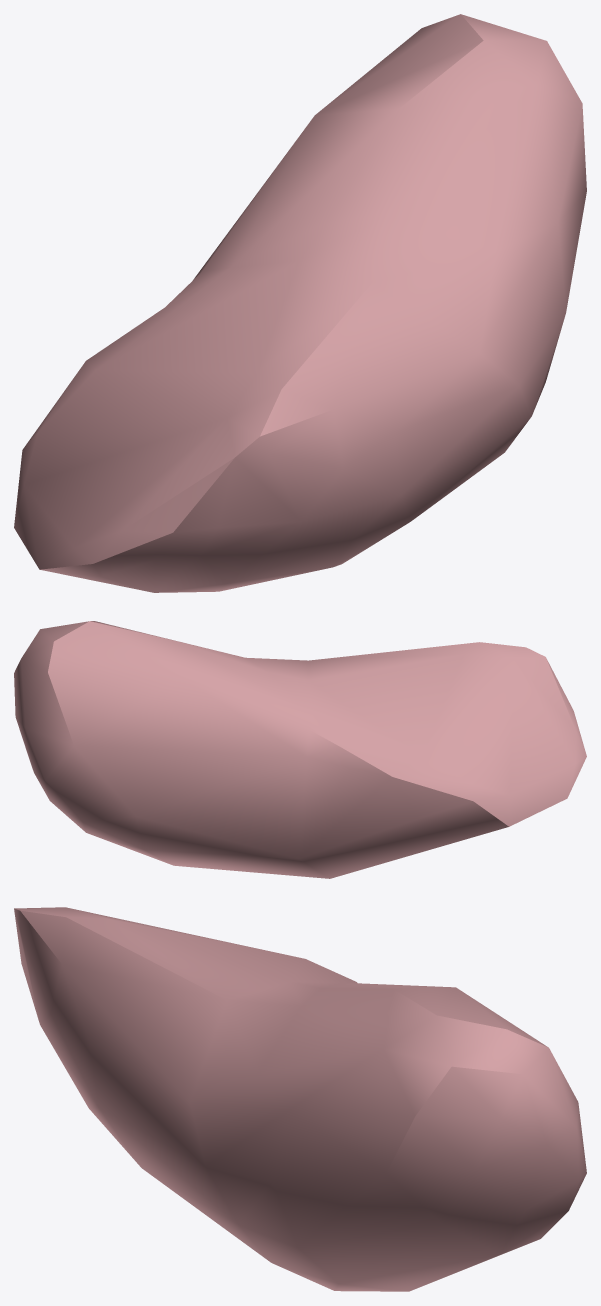
The model's file is fma16981_fj2622.glb.
3 views of the same model, one above another, from view 1: azimuth 30°, elevation 25°; view 2: azimuth 150°, elevation 25°; view 3: azimuth 270°, elevation 25° (orthographic). The views are drawn at different scales.
Visible parts, largest first — view 1: FMA16981_FJ2622; view 2: FMA16981_FJ2622; view 3: FMA16981_FJ2622.
Boxes of the visible parts, left/top/right/bottom form: FMA16981_FJ2622: left=14, top=14, right=586, bottom=592; FMA16981_FJ2622: left=14, top=621, right=586, bottom=878; FMA16981_FJ2622: left=14, top=907, right=586, bottom=1291.
Bounding box in the file's own units: 0.038 × 0.0205 × 0.0313.
